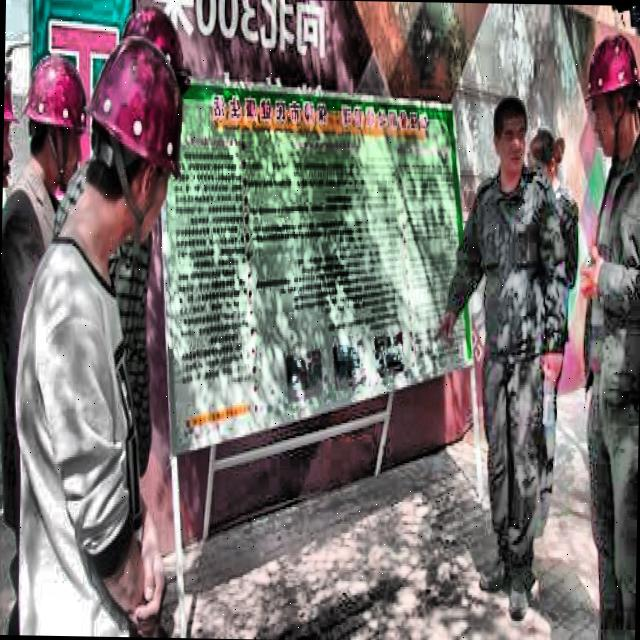helmet: (80, 42, 186, 255), (108, 3, 198, 119), (22, 46, 90, 196), (584, 28, 639, 168)
